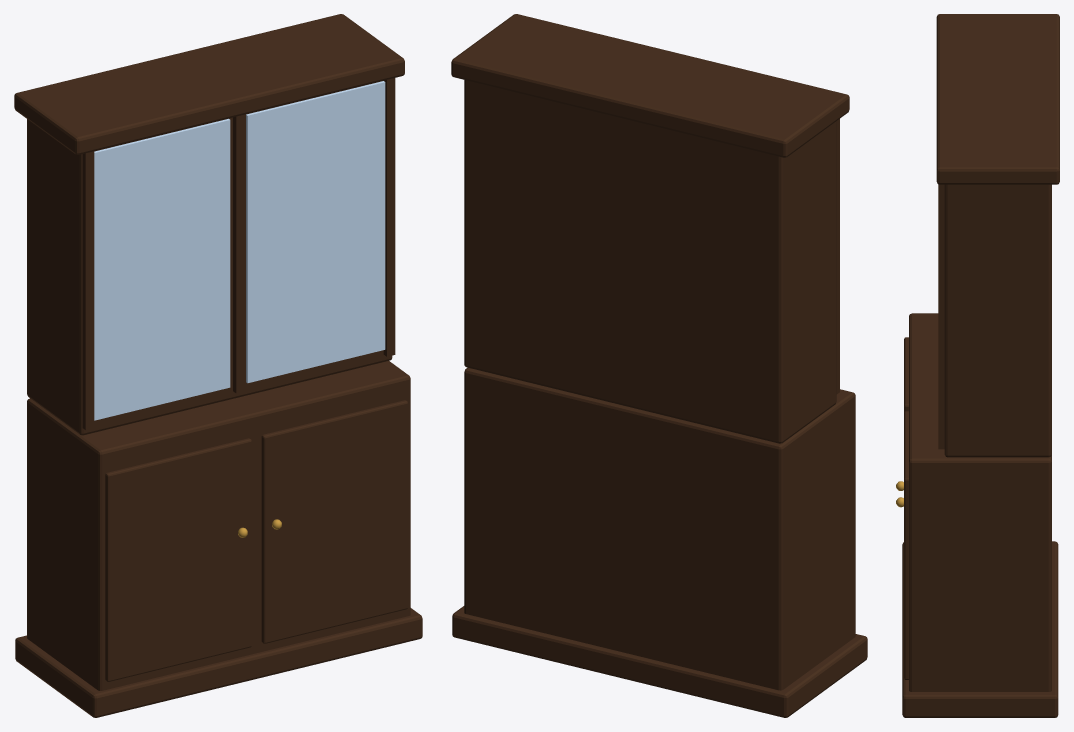
File: china_cabinet.glb
The picture shows the model from 3 angles, left to right: view 1: azimuth 30°, elevation 25°; view 2: azimuth 150°, elevation 25°; view 3: azimuth 270°, elevation 25°; orthographic projection. The views are drawn at different scales.
Parts seen in each view (by area): view 1: china_cabinet; view 2: china_cabinet; view 3: china_cabinet.
Part boxes in pixels (x1,y1,x2,y2): china_cabinet: (14, 14, 422, 717); china_cabinet: (451, 14, 867, 717); china_cabinet: (896, 14, 1059, 717).
Size of the model in its own units: 1.16 by 1.91 by 0.5152.
